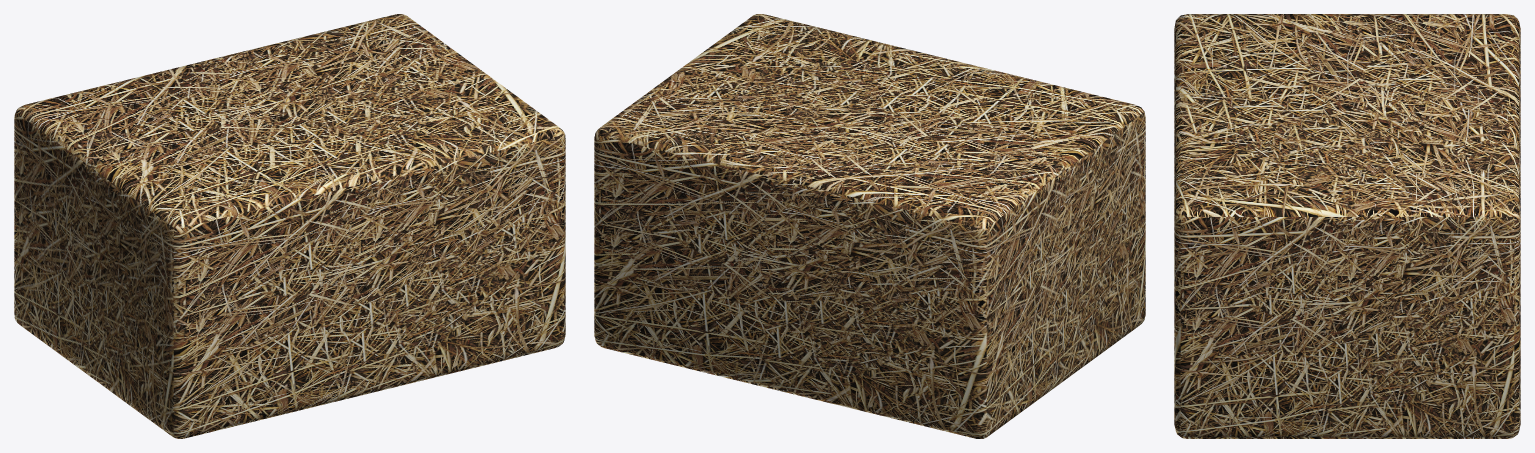
Rendered from Straw box.FBX.
3 views of the same model, side by side, from view 1: azimuth 30°, elevation 25°; view 2: azimuth 150°, elevation 25°; view 3: azimuth 270°, elevation 25° (orthographic). The views are drawn at different scales.
Parts seen in each view (by area): view 1: Box01; view 2: Box01; view 3: Box01.
Boxes of the visible parts, box(x1,y1,x2,y2) form: Box01: box(14, 14, 565, 438); Box01: box(594, 14, 1145, 438); Box01: box(1174, 14, 1520, 438).
Bounding box in the file's own units: 62.04 × 33.06 × 44.93.
1 material, 1 textured.
